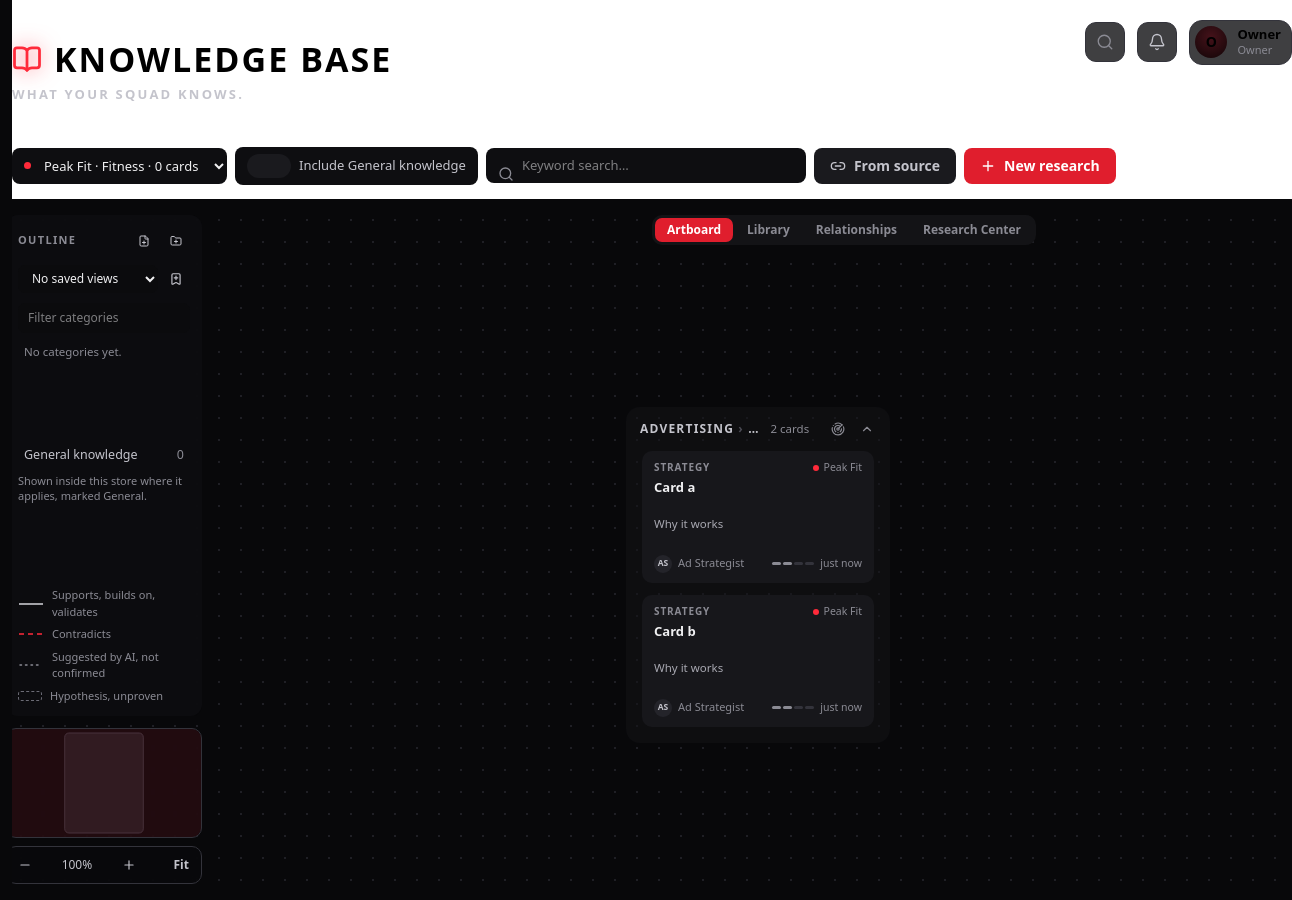
Test: Knowledge artboard › cards › collapses a frame to its header and expands it again
This screenshot has width=1292, height=900.
Click the button named "Collapse Hooks".
click(867, 428)  # box [858, 416, 876, 440]
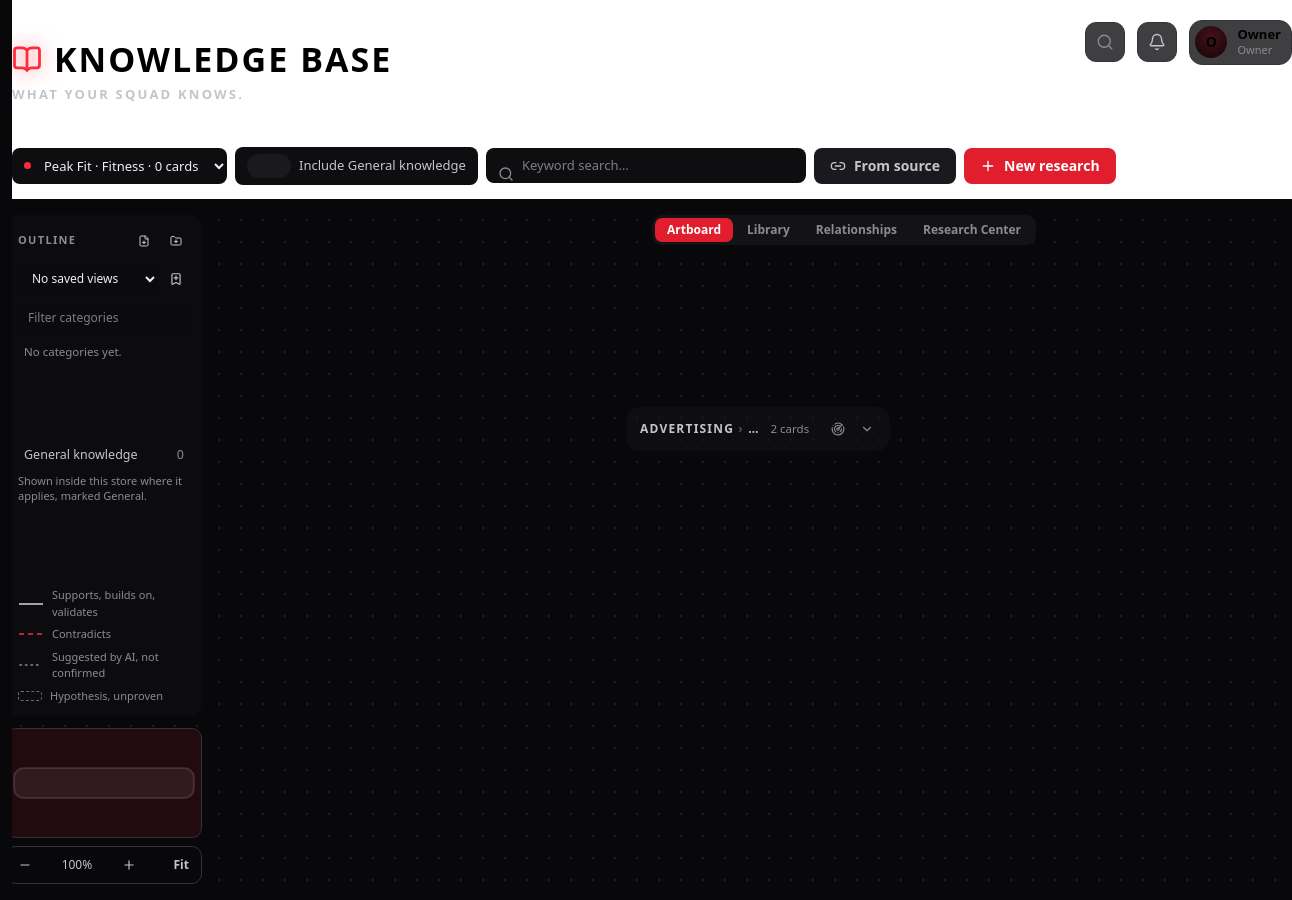
Expected: the button "Card a" is gone
Click the button named "Expand Hooks".
click(867, 428)  # box [858, 416, 876, 440]
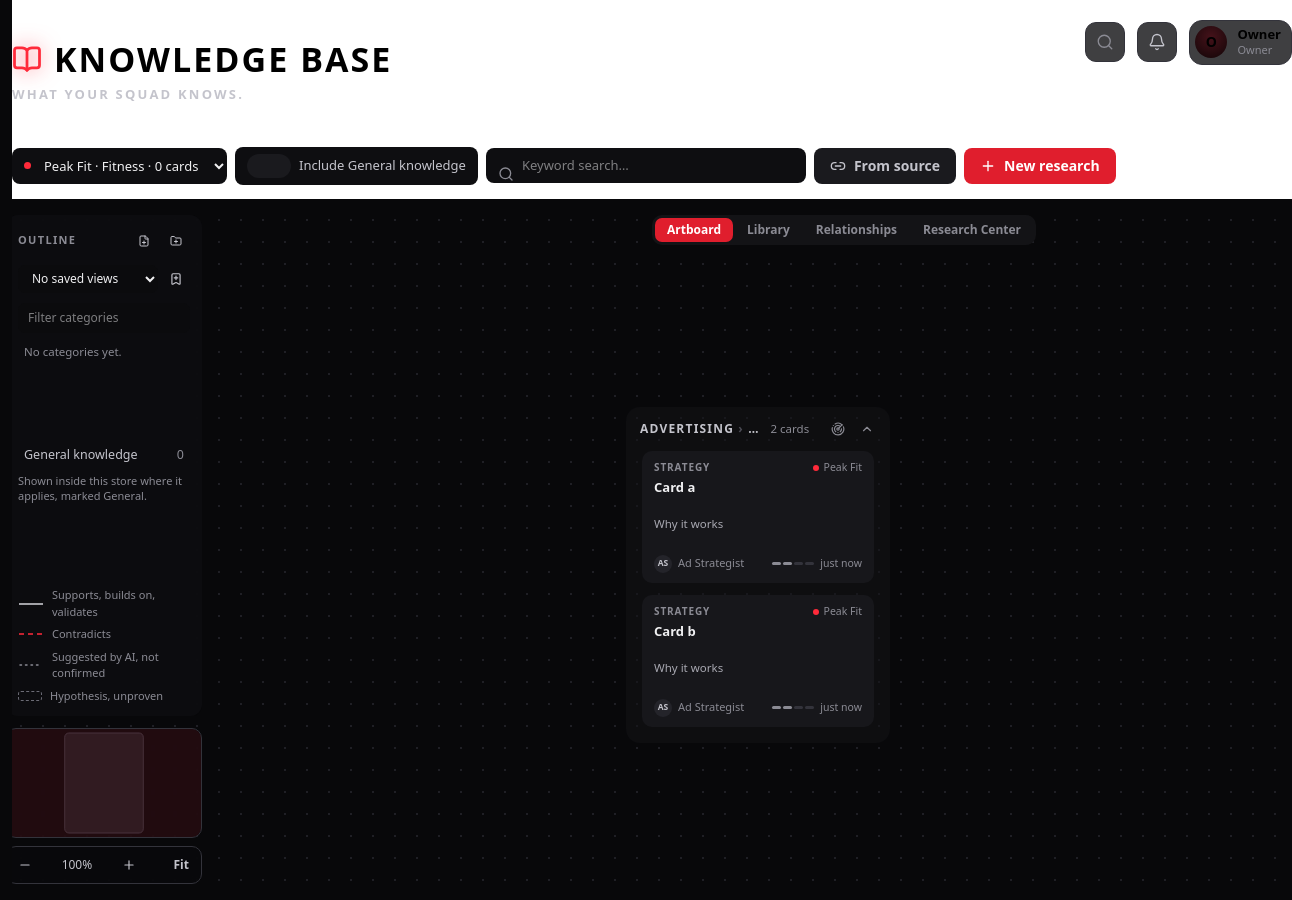
Expected: the button "Card a" is shown, [642, 450, 874, 582]
